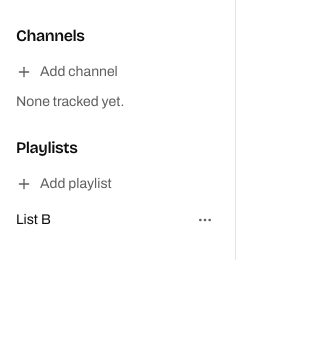
Test: Sidebar › does not offer mark-all-watched for playlists
The width and height of the screenshot is (320, 360).
Click the button named "Actions for List B". click: [205, 220]
box: 191,206 -> 219,234
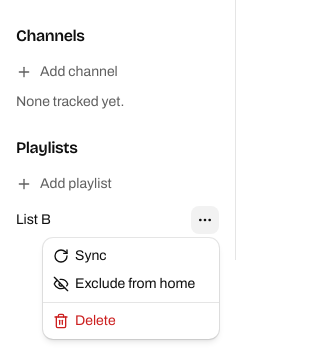
Expected: the menu item "Sync" is shown, 53,248 -> 107,264
